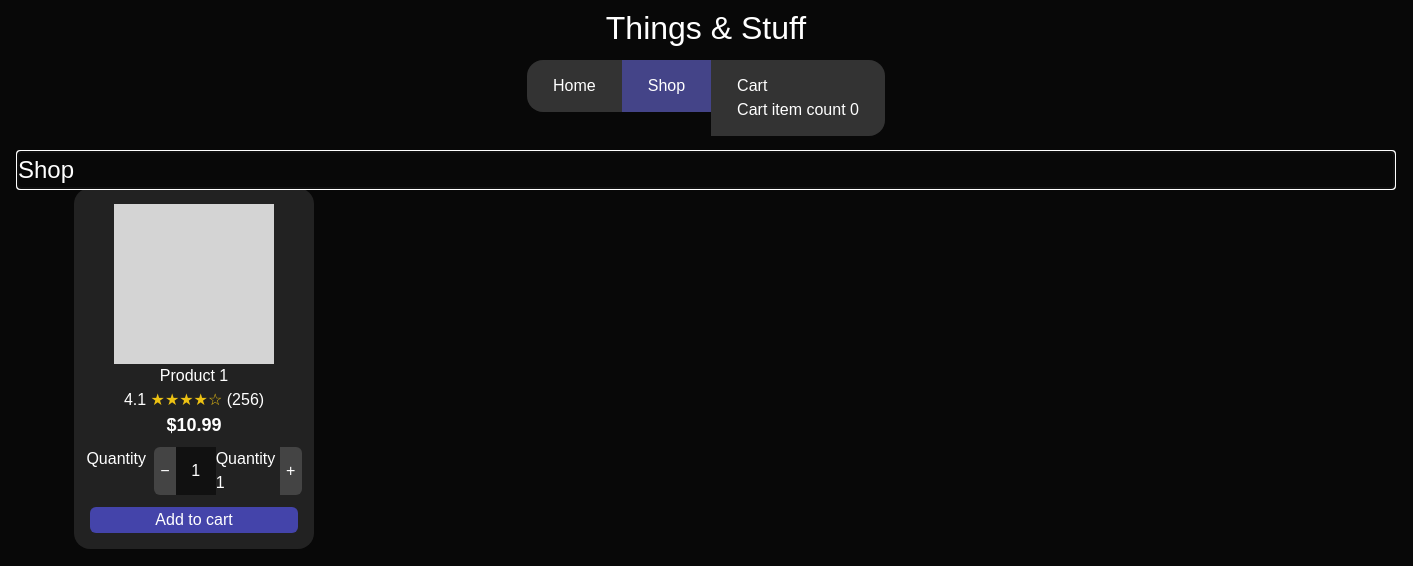
Test: Quantity input › has a value of 1 after adding to cart
Click the button "+" at [291, 471], box [280, 447, 302, 495]
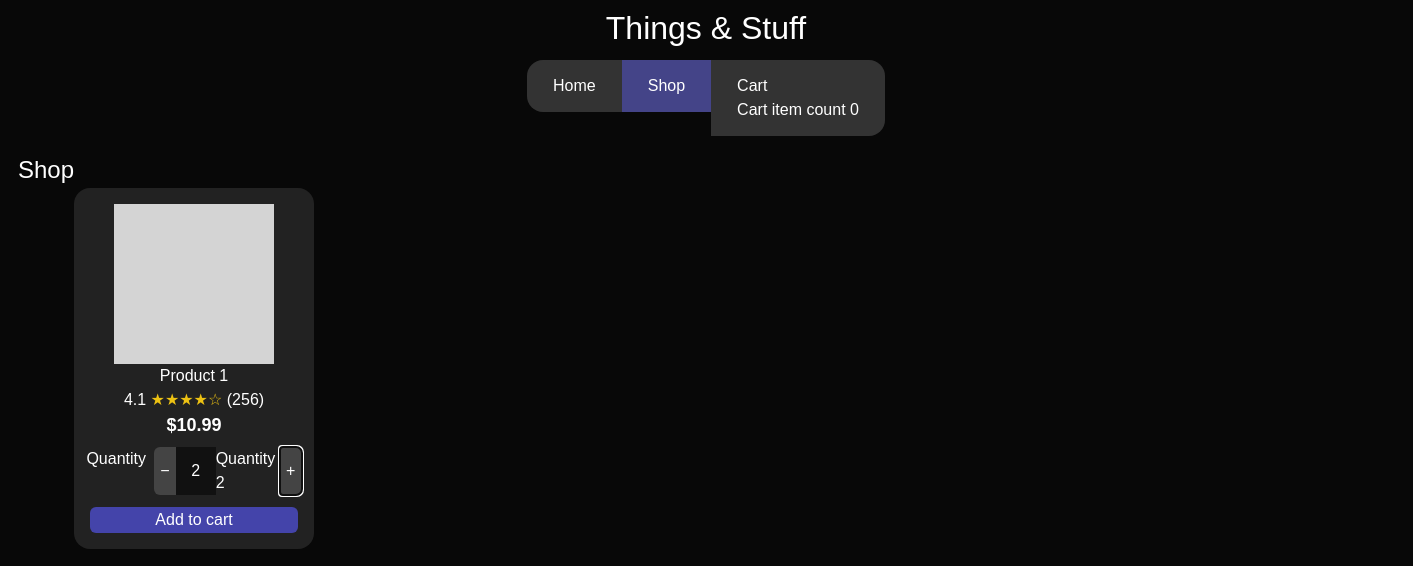
Click the button "Add to cart" at [194, 520], box [90, 507, 298, 533]
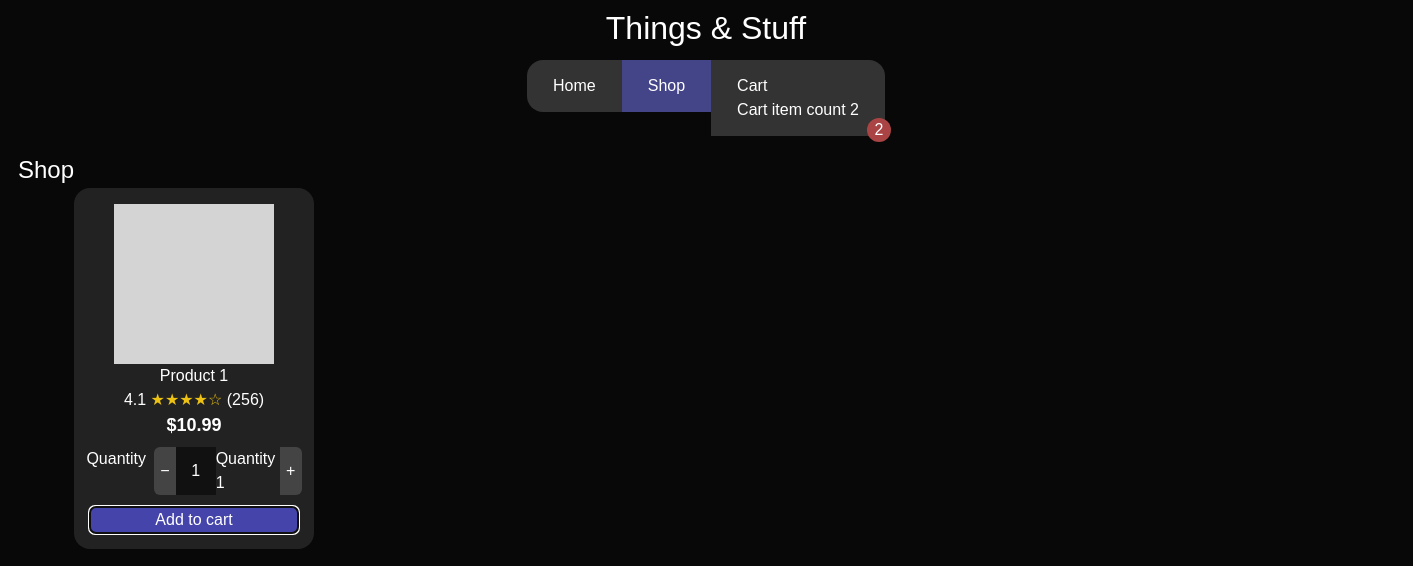
Expected: the number field labelled "Quantity" holds "1", [176, 447, 216, 495]
